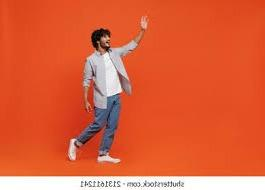Human: (66, 11, 132, 166)
